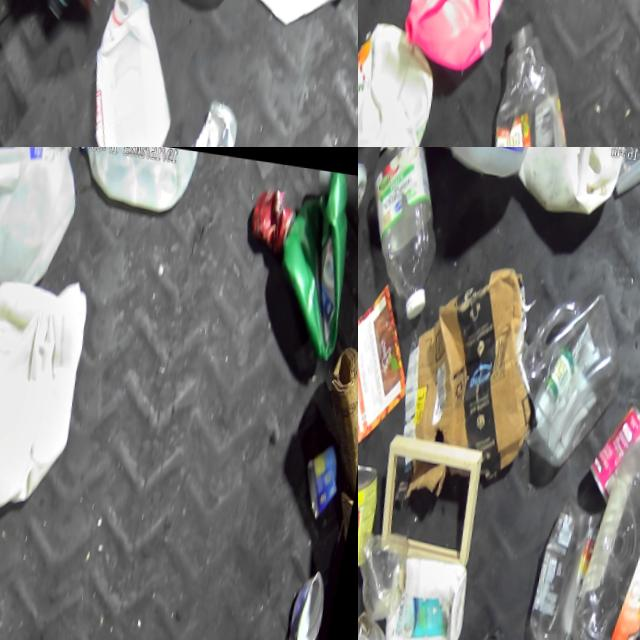can: (358, 147, 458, 328), (590, 399, 640, 505), (288, 557, 337, 640), (358, 457, 389, 577), (247, 183, 299, 251), (307, 440, 355, 511)
milk_jug: (0, 266, 99, 508), (74, 0, 198, 147), (0, 147, 83, 286), (70, 147, 200, 216), (509, 147, 631, 218), (425, 147, 529, 176)
non_white_jug: (260, 160, 358, 364), (413, 0, 525, 62)
plastic_bottle: (486, 19, 597, 147), (573, 432, 640, 640), (518, 498, 611, 640)
